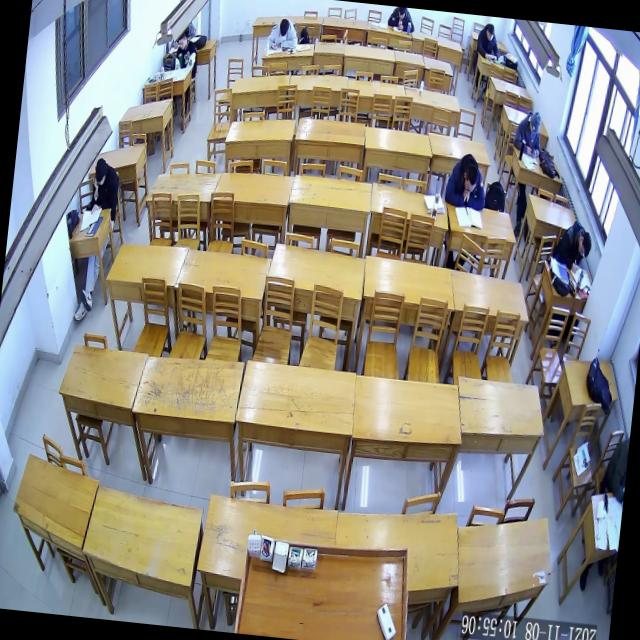bow: (442, 149, 491, 212), (263, 14, 300, 54), (384, 6, 416, 33)
down: (460, 162, 480, 196), (92, 155, 109, 188), (576, 230, 594, 260), (528, 110, 544, 136), (277, 16, 291, 38), (484, 22, 496, 44), (176, 31, 188, 51), (396, 7, 406, 20)
sit: (550, 216, 594, 277), (87, 154, 123, 219), (511, 105, 545, 158), (474, 21, 504, 64), (172, 31, 200, 73)
